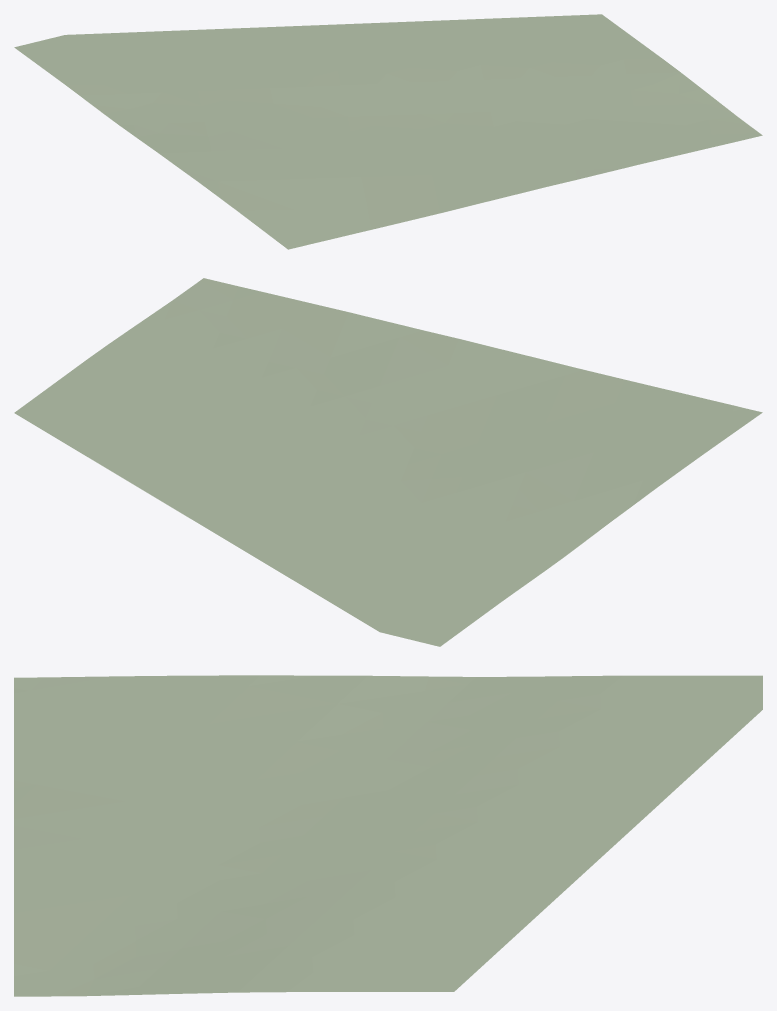
File: SM_MPRR_Terrain_-1_4.fbx
The picture shows the model from 3 angles, top to bottom: view 1: azimuth 30°, elevation 25°; view 2: azimuth 150°, elevation 25°; view 3: azimuth 270°, elevation 25°; orthographic projection. The views are drawn at different scales.
Visible parts, largest first — view 1: SM_MPRR_Terrain_-1_4; view 2: SM_MPRR_Terrain_-1_4; view 3: SM_MPRR_Terrain_-1_4.
Boxes of the visible parts, bbox=[...] form: SM_MPRR_Terrain_-1_4: bbox=[14, 14, 762, 249]; SM_MPRR_Terrain_-1_4: bbox=[14, 278, 762, 646]; SM_MPRR_Terrain_-1_4: bbox=[14, 675, 762, 996].
Bounding box in the file's own units: 15000 × 15000 × 108.
